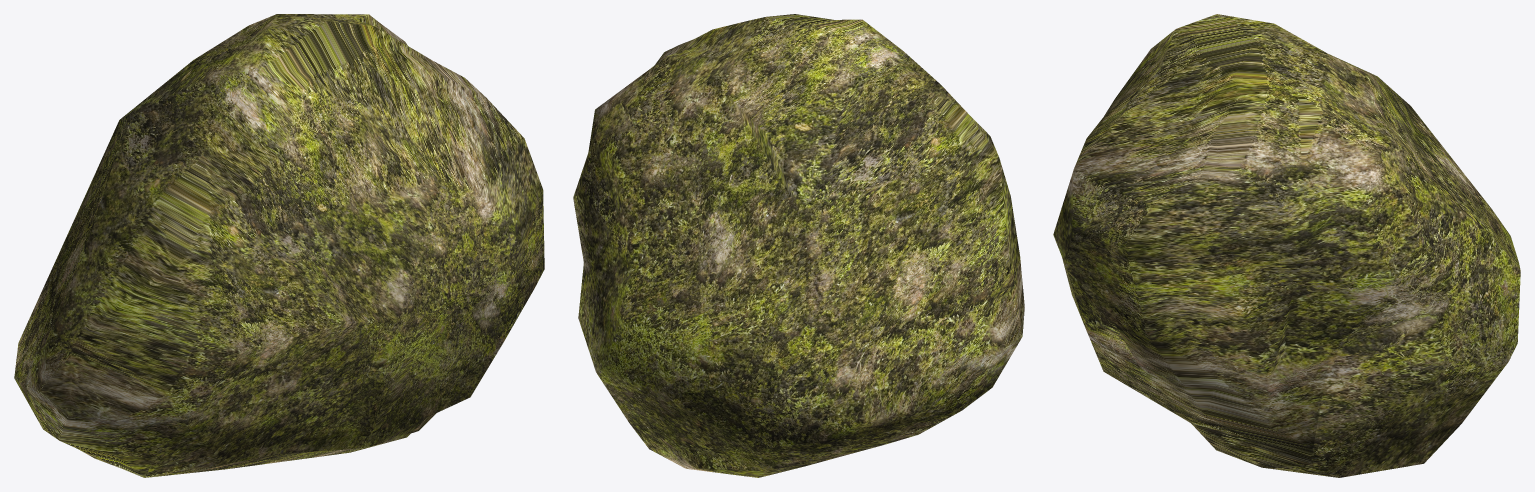
Rendered from Rock.obj.
3 renders of one model, left to right at view 1: azimuth 30°, elevation 25°; view 2: azimuth 150°, elevation 25°; view 3: azimuth 270°, elevation 25°, orthographic. The views are drawn at different scales.
Visible parts, largest first — view 1: Group15792; view 2: Group15792; view 3: Group15792.
Part boxes in pixels (box(x1,y1,x2,y2)): Group15792: box(14, 14, 544, 477); Group15792: box(573, 14, 1024, 477); Group15792: box(1053, 14, 1520, 477).
Bounding box in the file's own units: 2.12 × 2.14 × 2.12.
Materials: 1 (1 with a texture image).
